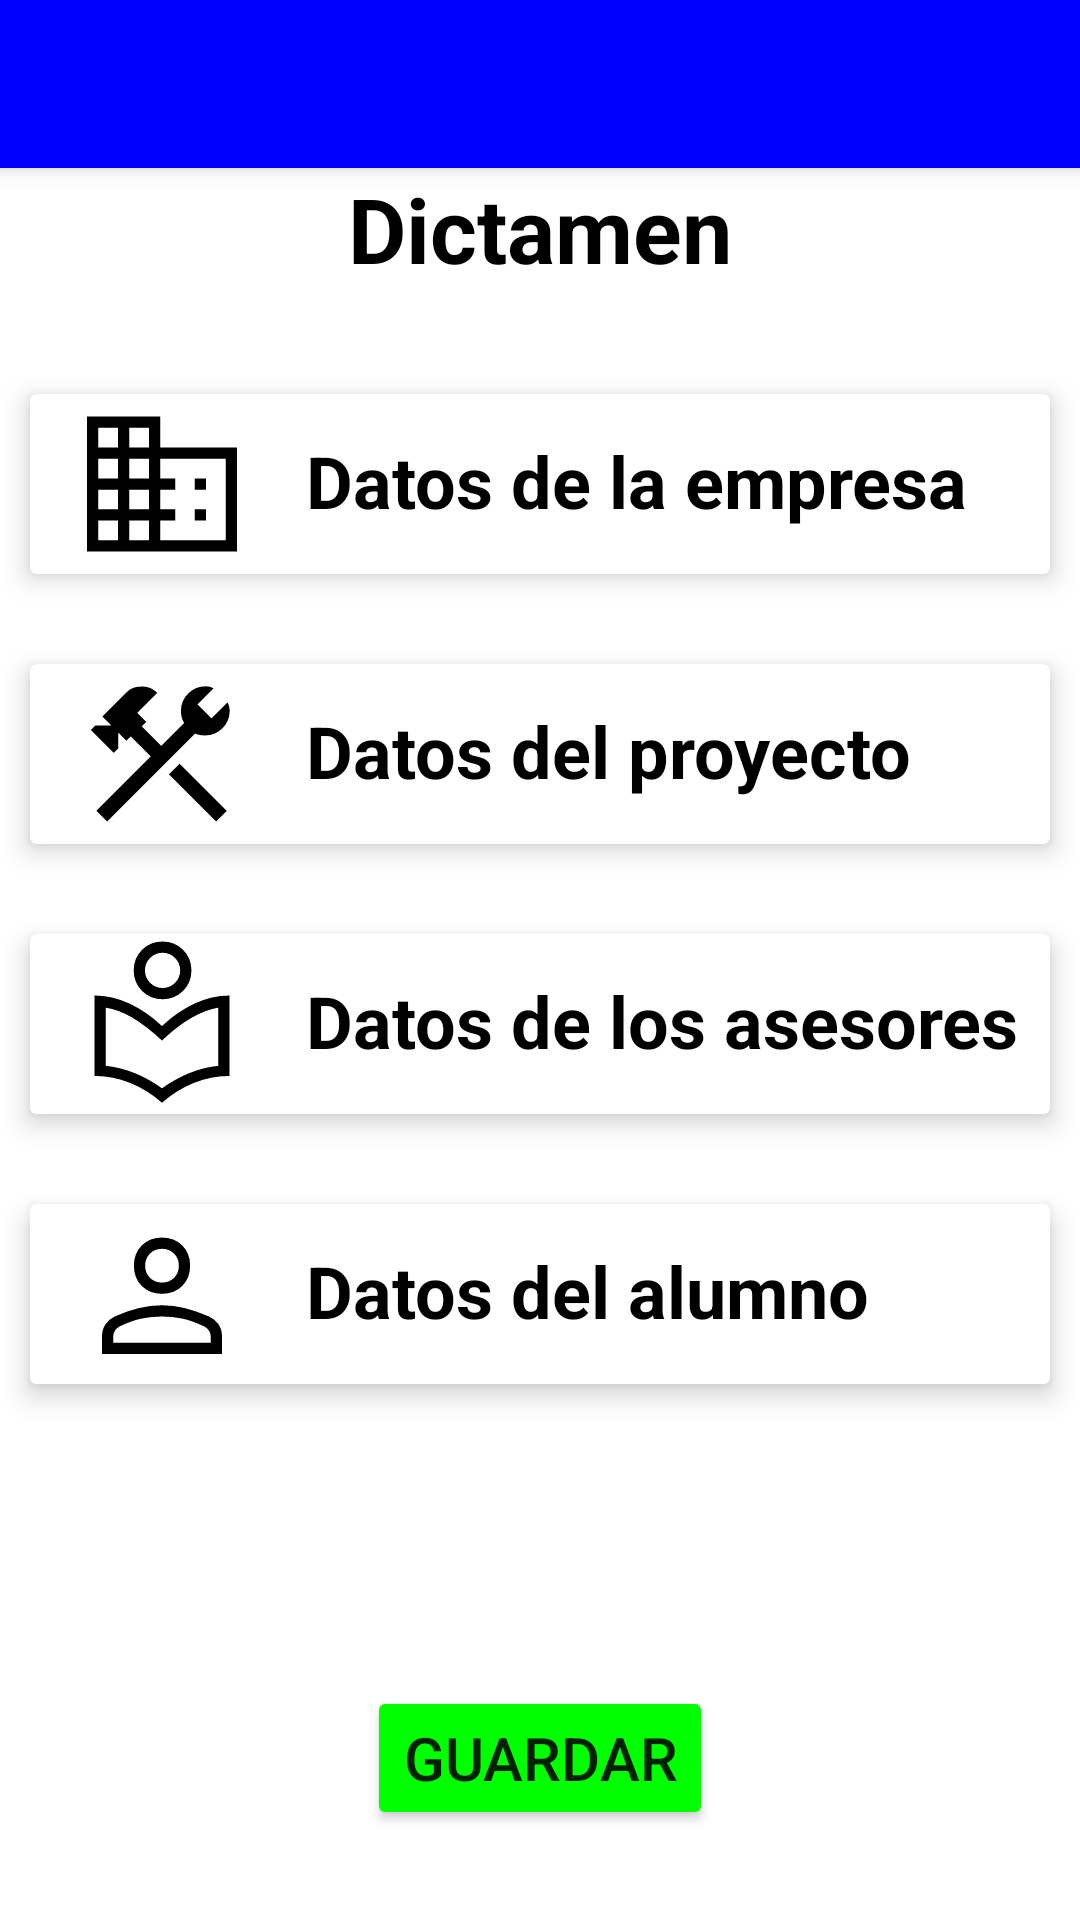

Screen size 1080*1920. Icon name, then its box in pixels as (x1, y1, x2, y2):
building: (87, 416, 237, 552)
contruction: (91, 686, 230, 822)
